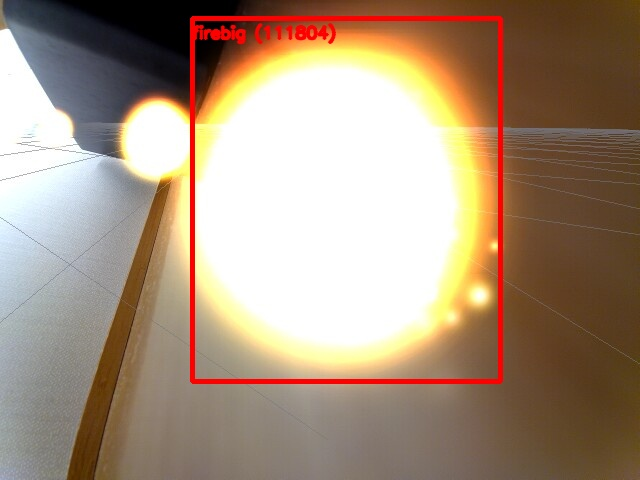firebig: (192, 18, 500, 381)
